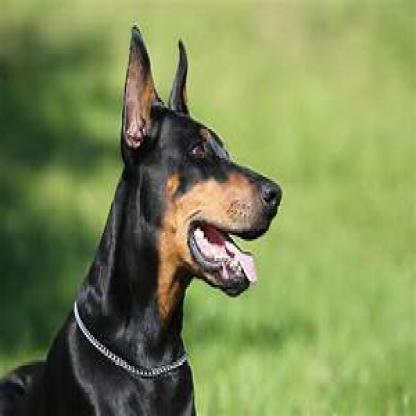dog: (1, 29, 284, 410)
